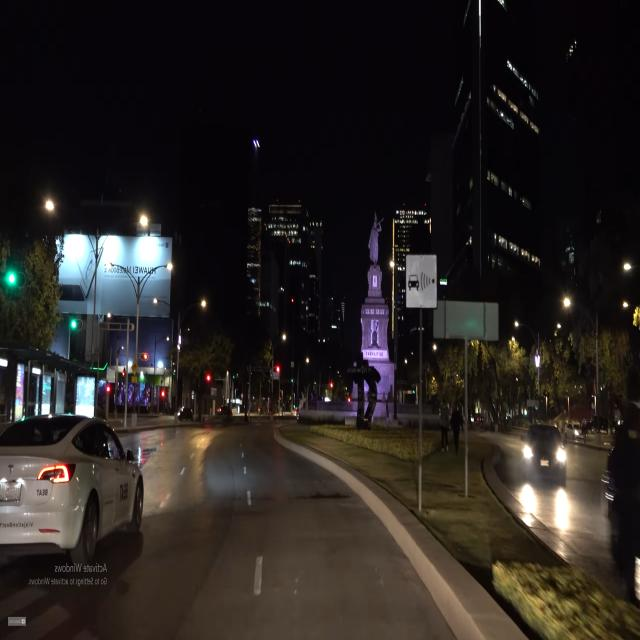headlights: (519, 438, 569, 472)
